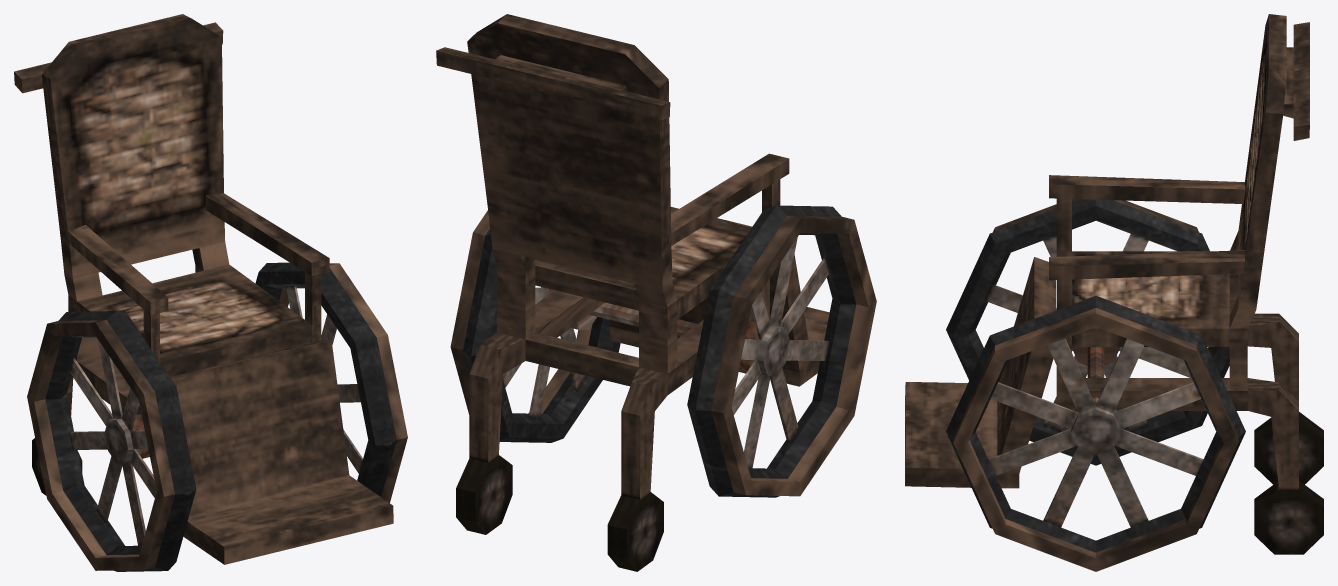
Rendered from WheelChair.fbx.
The picture shows the model from 3 angles, left to right: view 1: azimuth 30°, elevation 25°; view 2: azimuth 150°, elevation 25°; view 3: azimuth 270°, elevation 25°; orthographic projection. The views are drawn at different scales.
Parts seen in each view (by area): view 1: Wheelchair, Wheels, Step; view 2: Wheelchair, Wheels, Step; view 3: Wheels, Wheelchair, Step.
Boxes of the visible parts, bbox=[...] form: Wheelchair: bbox=[14, 14, 329, 495]; Wheels: bbox=[27, 262, 407, 571]; Step: bbox=[170, 340, 393, 564]; Wheelchair: bbox=[436, 14, 789, 571]; Wheels: bbox=[450, 205, 876, 497]; Step: bbox=[609, 207, 829, 386]; Wheels: bbox=[946, 199, 1245, 571]; Wheelchair: bbox=[1049, 14, 1323, 554]; Step: bbox=[905, 257, 1055, 488].
Size of the model in its own units: 288 by 513 by 412.
Materials: 3 (3 with a texture image).
